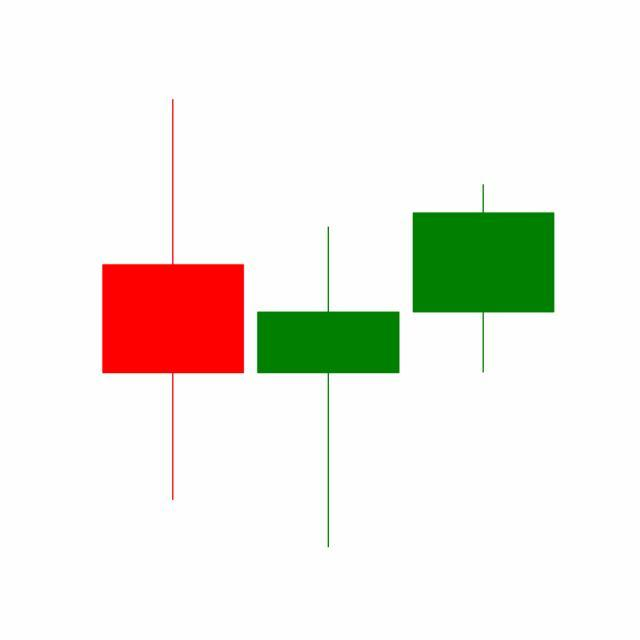Spinning Top: (250, 223, 407, 551)
